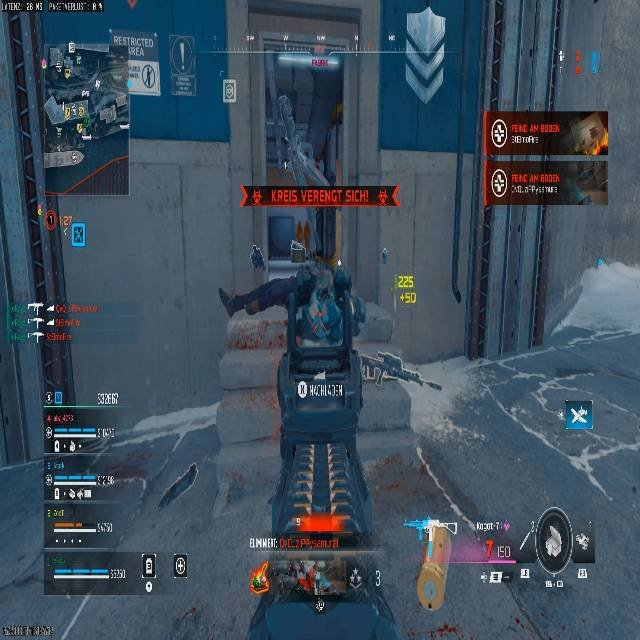player: (216, 250, 426, 638), (222, 246, 366, 356), (298, 561, 328, 614)
